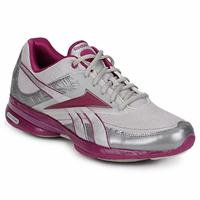shoe: (6, 38, 196, 163)
